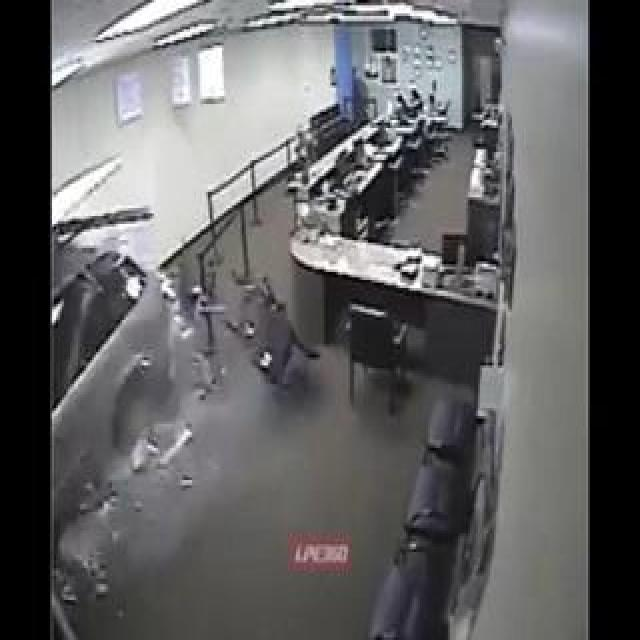burglary: (51, 200, 222, 501)
